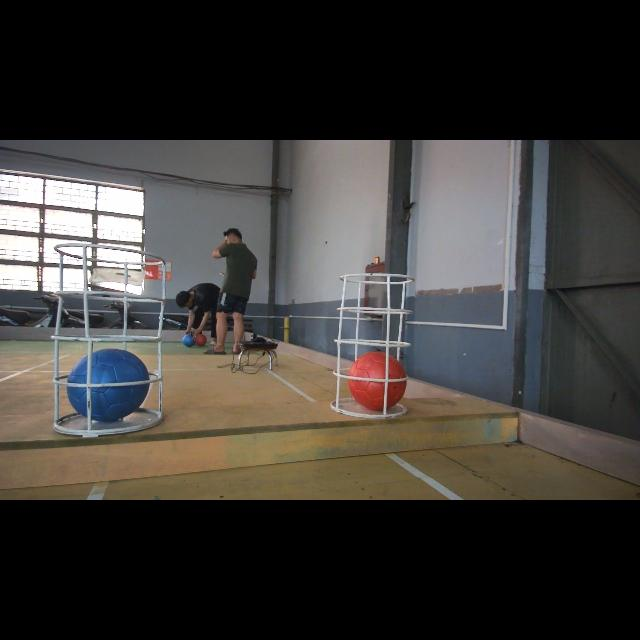B: (67, 349, 149, 423)
R: (349, 351, 407, 411)
